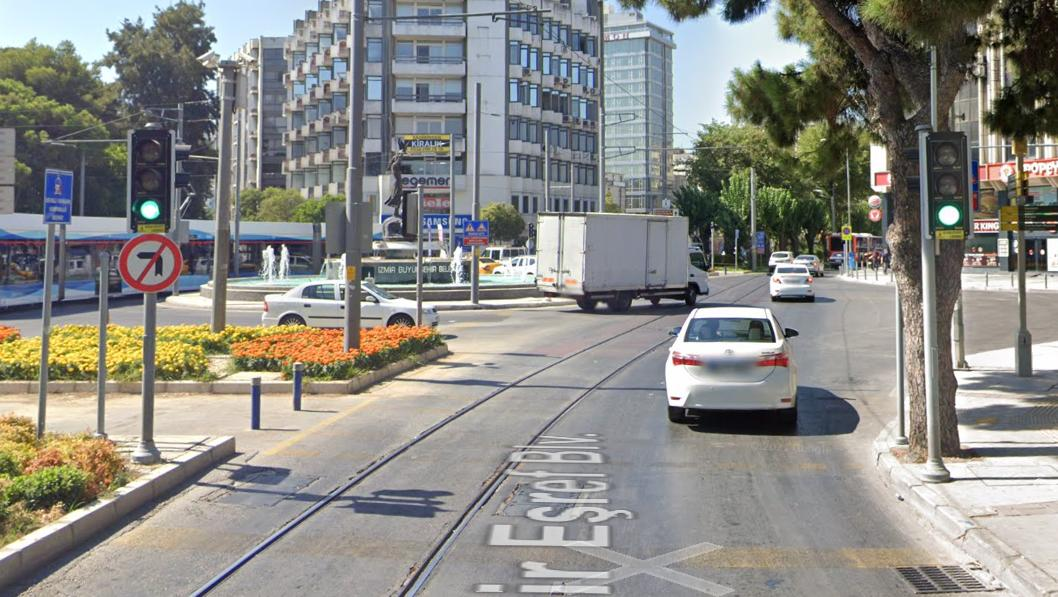greenlight: (926, 132, 969, 227), (132, 131, 170, 221)
leftturnsareforbidden: (120, 235, 185, 289)
